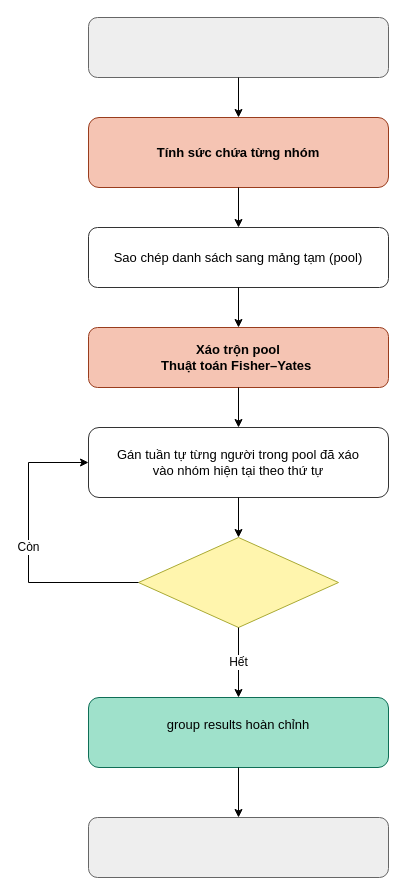
The diagram is 406 pixels wide and 895 high, and some of its shapes have lost their labels. Here are the shapes that lost their labels. From the top down, the box of each, then its label:
(88, 16, 388, 78): Nhập danh sách
(138, 536, 338, 628): Còn người chưa được gán?
(88, 816, 388, 878): Kết thúc Xuất file danh_sach_nhom_quantum.csv
